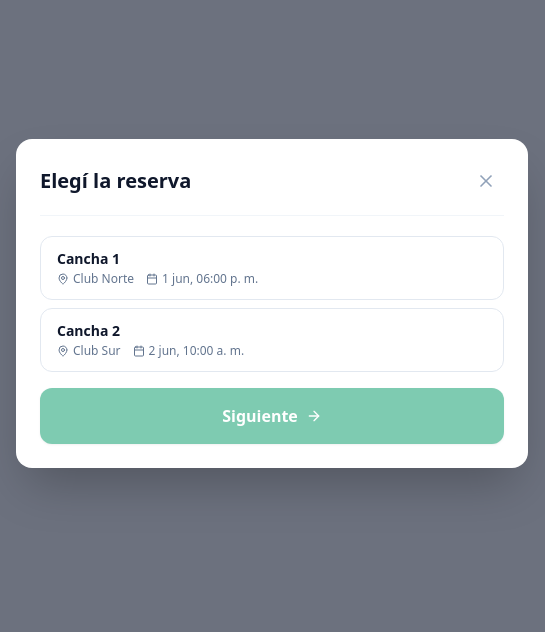
Scenario: ReportFromReservationModal › can add a third set
# Navigate to score step
Click the text "Cancha 1" at point(89, 258), box top-left (57, 248), bottom-right (120, 268)
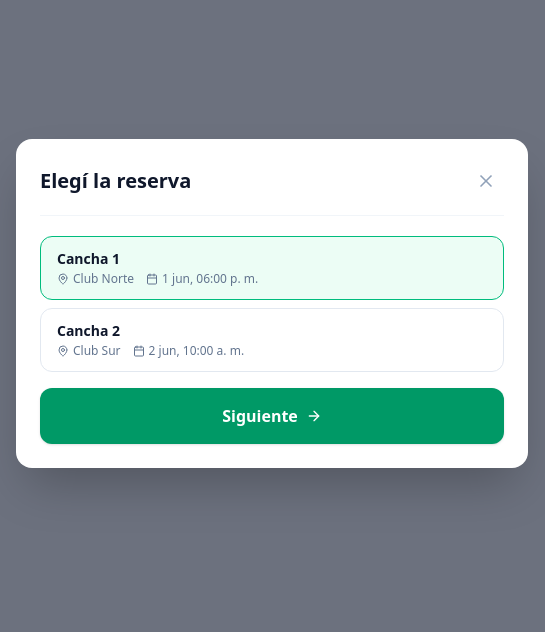
Click the button "Siguiente" at point(272, 416), box top-left (40, 388), bottom-right (504, 444)
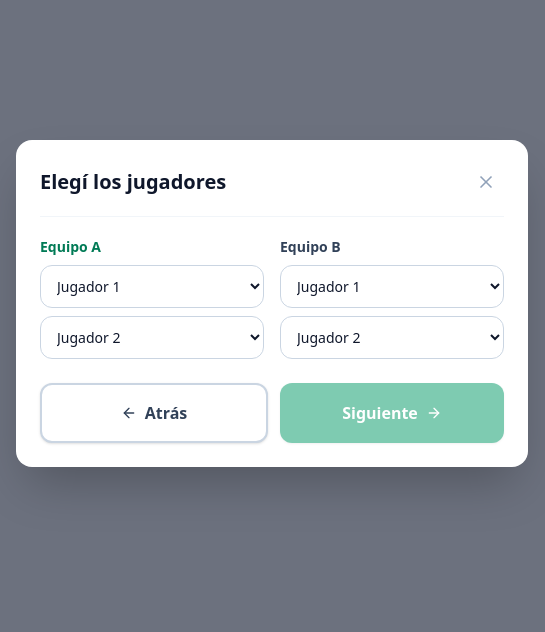
Select "Juan" in the 1st dropdown named "Jugador 1" at point(152, 286), box top-left (40, 264), bottom-right (264, 308)
Select "Carlos" in the 3rd dropdown named "Jugador 2" at point(152, 337), box top-left (40, 316), bottom-right (264, 358)
Select "María" in the 2nd dropdown named "Jugador 1" at point(392, 286), box top-left (280, 264), bottom-right (504, 308)
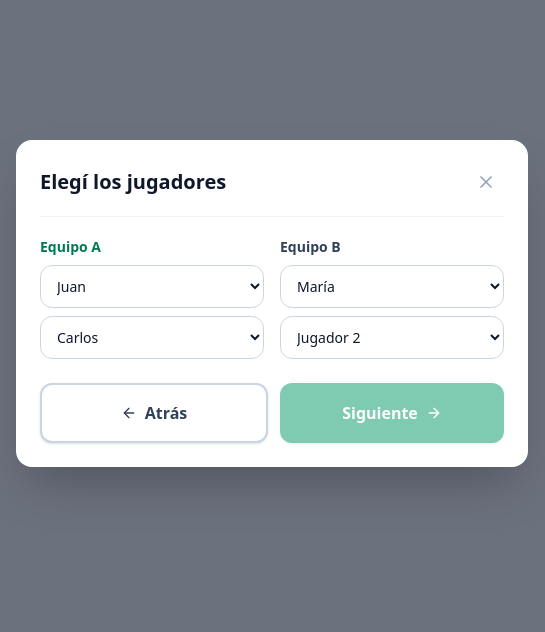
Select "Ana" in the 4th dropdown named "Jugador 2" at point(392, 337), box top-left (280, 316), bottom-right (504, 358)
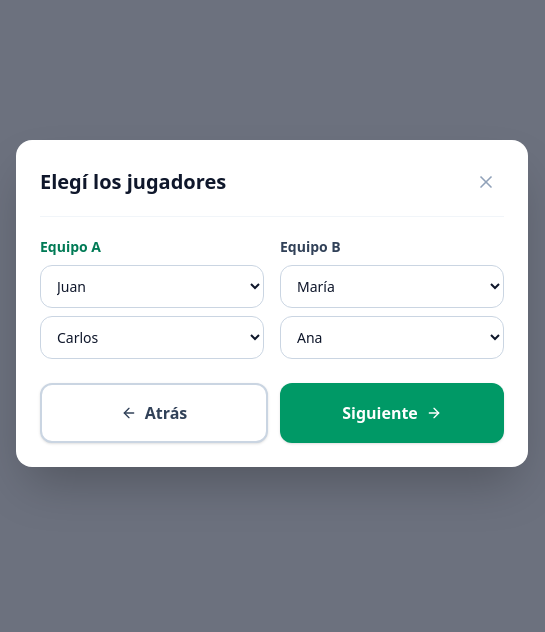
Click the button "Siguiente" at point(392, 412), box top-left (280, 382), bottom-right (504, 442)
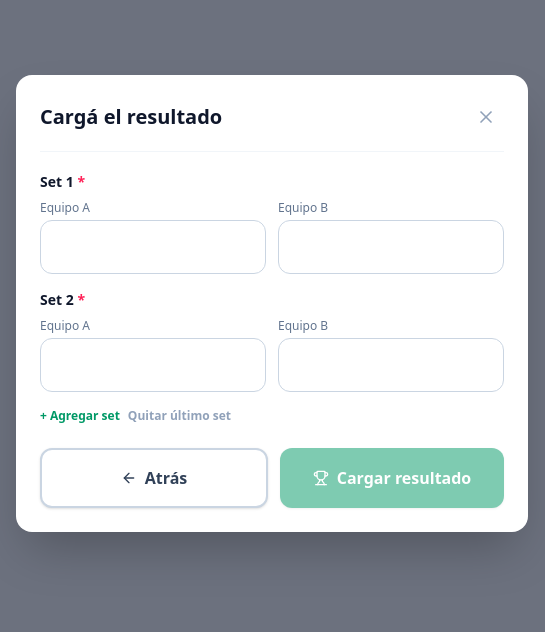
Expected: the button "+ Agregar set" is shown
Click the button "+ Agregar set" at point(80, 416), box top-left (40, 408), bottom-right (120, 424)
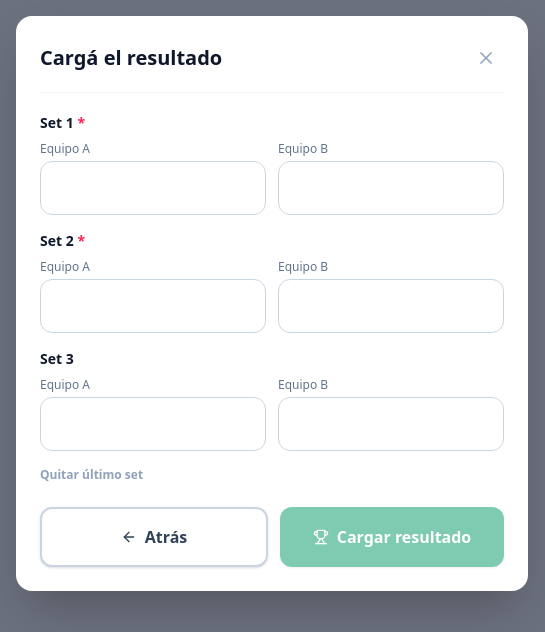
Expected: the text "Set 3" is shown, top-left (40, 348), bottom-right (74, 368)
